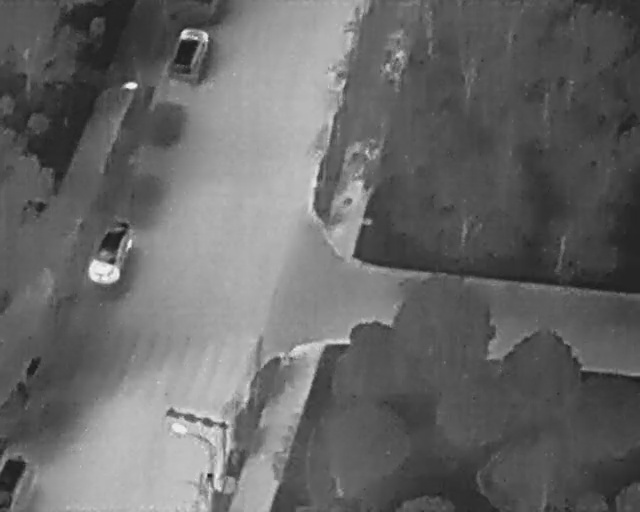Car: (81, 214, 136, 290), (162, 22, 215, 88), (0, 455, 30, 510)
